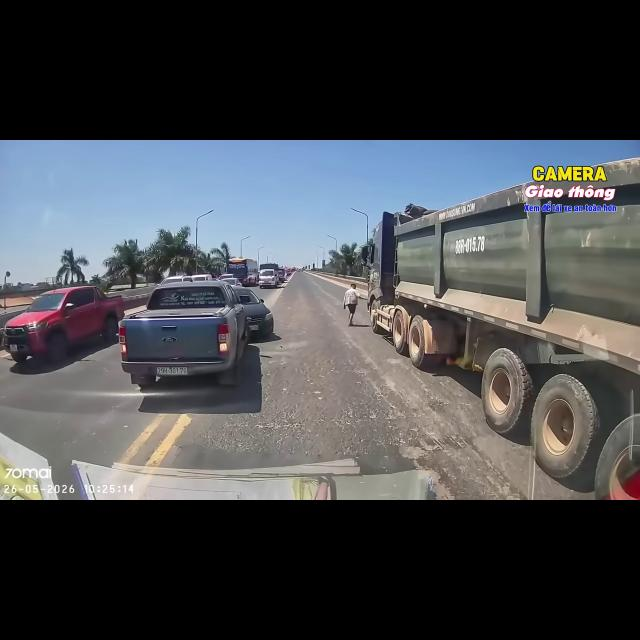bus: (227, 257, 258, 285)
car: (119, 281, 249, 388), (3, 286, 124, 363), (234, 288, 273, 338), (160, 276, 191, 285), (219, 278, 242, 286), (191, 274, 212, 280), (217, 274, 235, 280)
truck: (361, 158, 639, 498), (227, 257, 258, 286), (259, 263, 279, 272)
